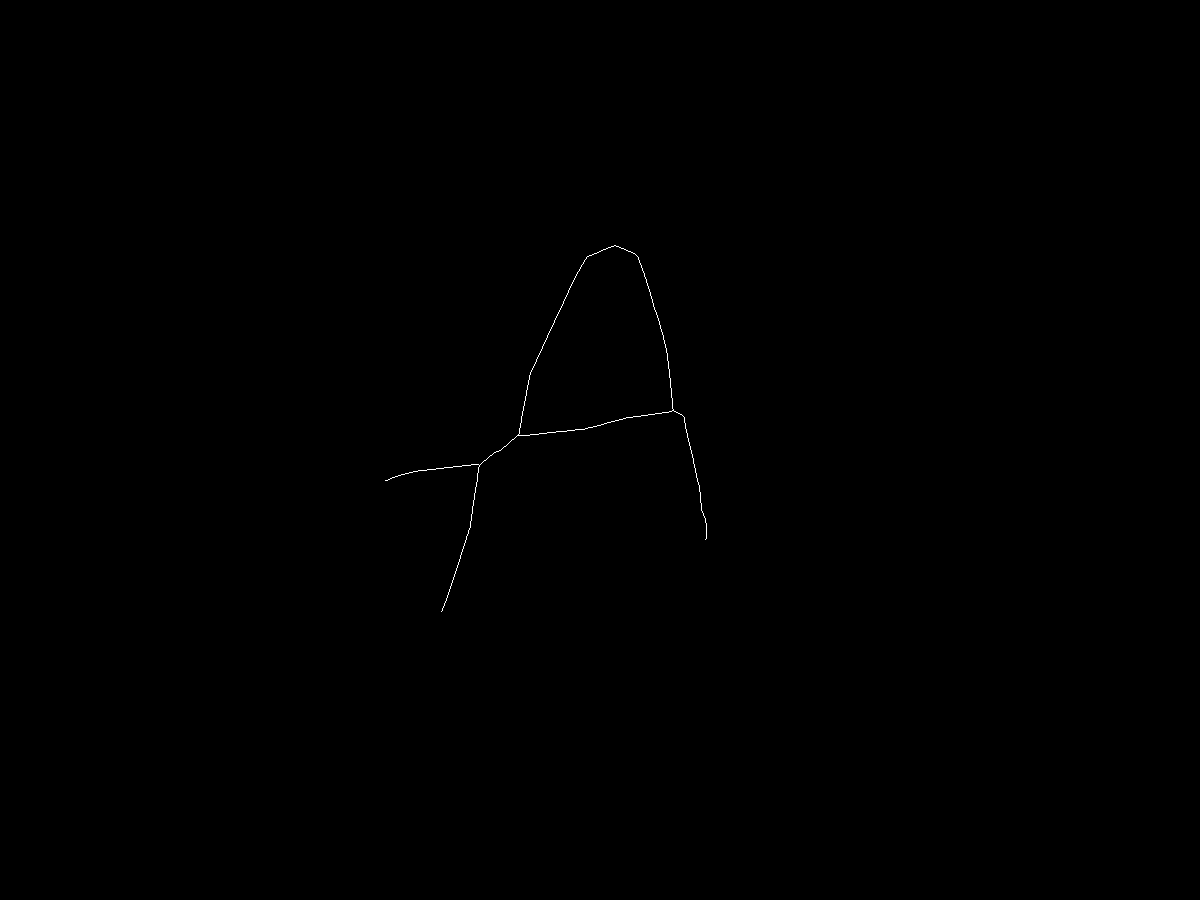dian1: (603, 237, 625, 259)
dian2: (511, 429, 528, 446)
dian3: (435, 600, 450, 615)
dian4: (664, 408, 680, 424)
dian5: (701, 532, 714, 545)
